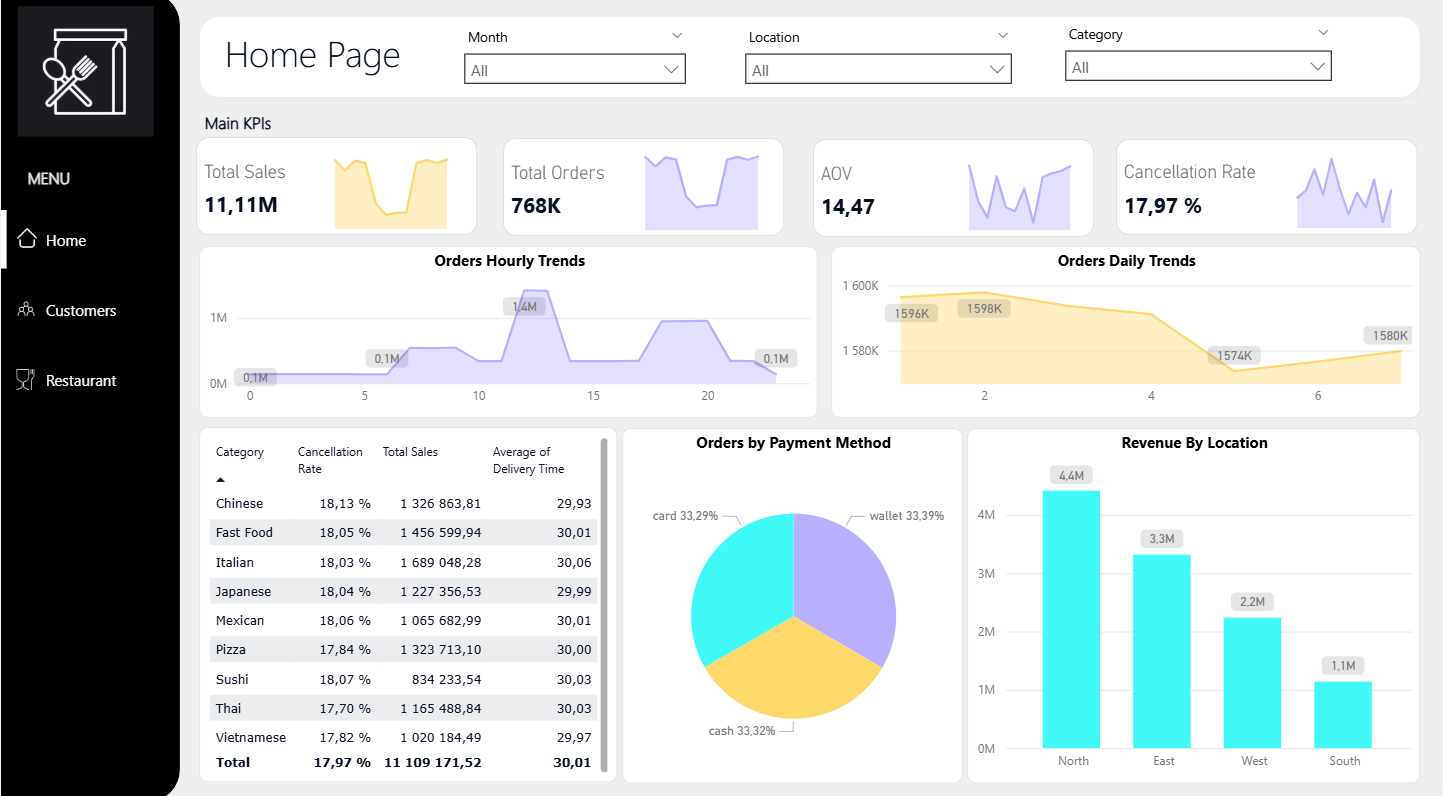

The dashboard page shown, as its layout file describes it:
{"tool":"powerbi","page":{"name":"Home ","canvas":[1280,720],"ordinal":0},"visuals":[{"type":"shape","box":[170,15,1098.3,85],"z":0},{"type":"shape","box":[0,0,159.1,720],"z":1000},{"type":"textbox","box":[18.3,150.5,108.6,31.2],"z":2000},{"type":"textbox","box":[193.3,26.7,203.3,63.3],"z":3000},{"type":"slicer","fields":{"Values":["dim_customers.zone"]},"box":[651.7,26.7,256.7,66.7],"z":4000},{"type":"slicer","fields":{"Values":["dim_restaurants.cuisine"]},"box":[935.7,24.3,257.1,65.7],"z":5000},{"type":"cardVisual","fields":{"Data":["_Measures.Average Order Value"]},"box":[721.7,130.7,250,87],"z":6000},{"type":"cardVisual","fields":{"Data":["_Measures.Cancellation Rate"]},"box":[991.1,130.7,268.4,85.3],"z":7000},{"type":"areaChart","fields":{"Category":["dim_dates.month"],"Y":["_Measures.Cancellation Rate"]},"box":[1129.8,128.9,138.7,86.2],"z":8000},{"type":"textbox","box":[176,100.4,77.3,37.3],"z":9000},{"type":"pieChart","title":"Orders by Payment Method","fields":{"Category":["fct_orders.payment_method"],"Y":["_Measures.Total Orders"]},"box":[552,387.6,303.1,315.6],"z":10000},{"type":"clusteredColumnChart","title":"Revenue By Location","fields":{"Category":["dim_restaurants.zone"],"Y":["_Measures.Total Sales"]},"box":[858.7,387.6,402.7,315.6],"z":11000},{"type":"lineChart","title":"Orders Hourly Trends","fields":{"Category":["fct_orders.order_hour"],"Y":["_Measures.Total Sales"]},"box":[176,225.8,550.2,152.9],"z":12000},{"type":"pageNavigator","box":[0,193.8,160,177.8],"z":13000},{"type":"image","box":[6.2,203.8,33.8,30],"z":14000},{"type":"image","box":[6.2,328,31.1,32.9],"z":15000},{"type":"image","box":[9.8,263.1,24.9,36.4],"z":16000},{"type":"tableEx","fields":{"Values":["dim_restaurants.cuisine","_Measures.Cancellation Rate","_Measures.Total Sales","Avg(fct_orders.delivery_time_min)"]},"box":[176,386.7,372.4,316.4],"z":17000},{"type":"cardVisual","fields":{"Data":["_Measures.Total Orders"]},"box":[446.3,130,250,87],"z":18000},{"type":"areaChart","fields":{"Category":["dim_dates.month"],"Y":["_Measures.Total Orders"]},"box":[548.4,129.8,161.8,87.1],"z":19000},{"type":"cardVisual","fields":{"Data":["_Measures.Total Sales"]},"box":[173.4,129.1,250,87],"z":20000},{"type":"areaChart","fields":{"Category":["dim_dates.month"],"Y":["_Measures.Total Sales"]},"box":[275.6,128.9,158.2,87.1],"z":21000},{"type":"slicer","fields":{"Values":["dim_dates.month_name"]},"box":[401.8,26.7,216.9,63.1],"z":22000},{"type":"image","box":[9.8,3.6,130.7,134.2],"z":23000},{"type":"lineChart","title":"Orders Daily Trends","fields":{"Category":["dim_dates.day_of_week"],"Y":["_Measures.Total Sales"]},"box":[737.8,225.8,523.6,152.9],"z":24000},{"type":"areaChart","fields":{"Category":["dim_dates.month"],"Y":["_Measures.Average Order Value"]},"box":[837.3,130.7,147.6,86.2],"z":25000}]}

Visuals, with their boxes on the page's 1280x720 design canvas (x1, y1, x2, y2). These are canvas units, not pixel positions in the 1443x796 screenshot, which may show the page scaled, cropped or inside an application window:
shape: 170 15 1268 100
shape: 0 0 159 720
textbox: 18 150 127 182
textbox: 193 27 397 90
slicer - dim_customers.zone: 652 27 908 93
slicer - dim_restaurants.cuisine: 936 24 1193 90
cardVisual - _Measures.Average Order Value: 722 131 972 218
cardVisual - _Measures.Cancellation Rate: 991 131 1260 216
areaChart - dim_dates.month x _Measures.Cancellation Rate: 1130 129 1268 215
textbox: 176 100 253 138
"Orders by Payment Method" pieChart: 552 388 855 703
"Revenue By Location" clusteredColumnChart: 859 388 1261 703
"Orders Hourly Trends" lineChart: 176 226 726 379
pageNavigator: 0 194 160 372
image: 6 204 40 234
image: 6 328 37 361
image: 10 263 35 300
tableEx - dim_restaurants.cuisine x _Measures.Cancellation Rate: 176 387 548 703
cardVisual - _Measures.Total Orders: 446 130 696 217
areaChart - dim_dates.month x _Measures.Total Orders: 548 130 710 217
cardVisual - _Measures.Total Sales: 173 129 423 216
areaChart - dim_dates.month x _Measures.Total Sales: 276 129 434 216
slicer - dim_dates.month_name: 402 27 619 90
image: 10 4 140 138
"Orders Daily Trends" lineChart: 738 226 1261 379
areaChart - dim_dates.month x _Measures.Average Order Value: 837 131 985 217
